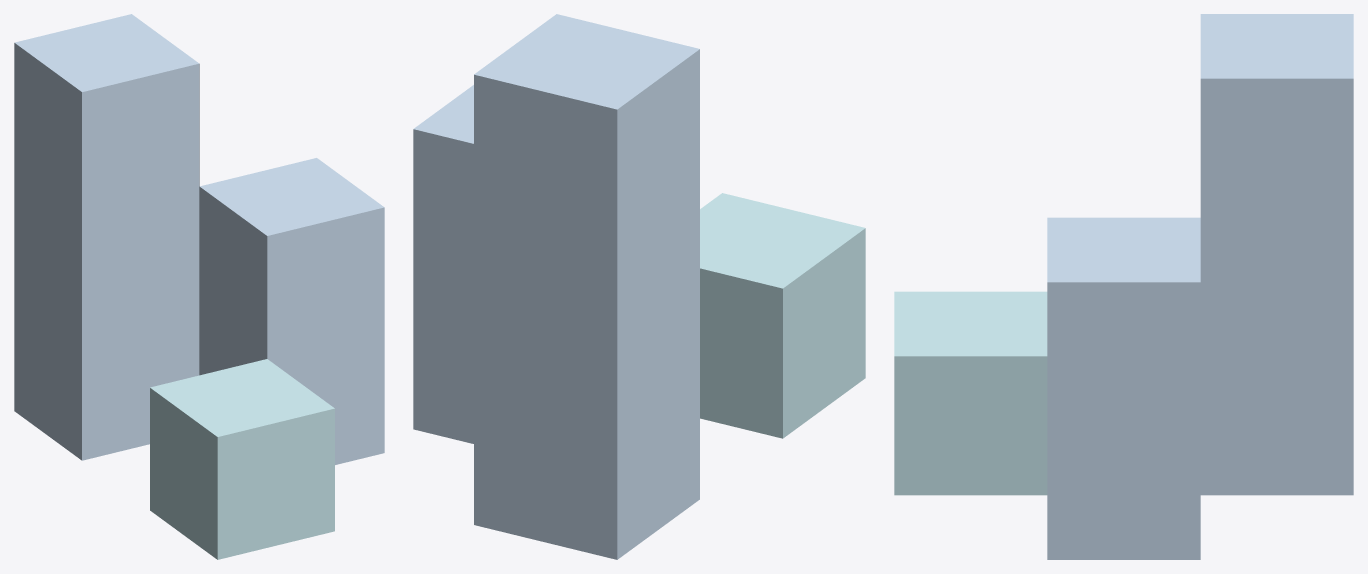
The model's file is tile-27.obj.
The picture shows the model from 3 angles, left to right: view 1: azimuth 30°, elevation 25°; view 2: azimuth 150°, elevation 25°; view 3: azimuth 270°, elevation 25°; orthographic projection. The views are drawn at different scales.
Size of the model in its own units: 0.2 by 0.3 by 0.3.
